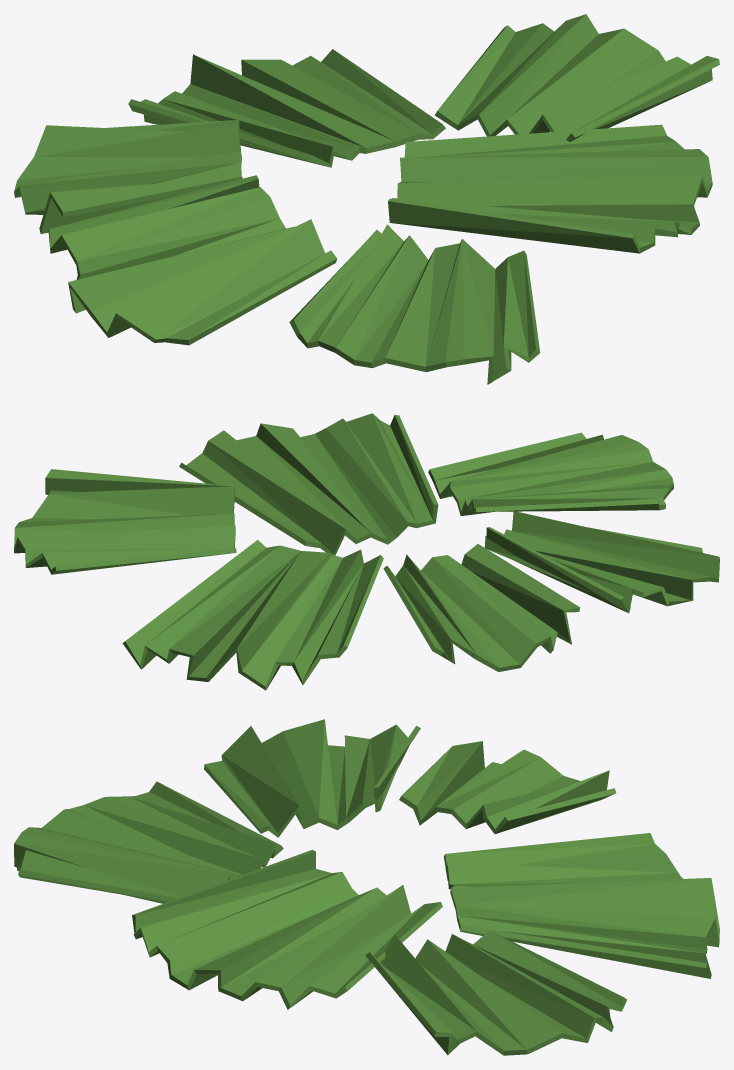
File: Lettuce.glb
The picture shows the model from 3 angles, top to bottom: view 1: azimuth 30°, elevation 25°; view 2: azimuth 150°, elevation 25°; view 3: azimuth 270°, elevation 25°; orthographic projection. The views are drawn at different scales.
Parts seen in each view (by area): view 1: Lettuce_Plane.000; view 2: Lettuce_Plane.000; view 3: Lettuce_Plane.000.
Part boxes in pixels (x1,y1,x2,y2): Lettuce_Plane.000: (14,14,719,384); Lettuce_Plane.000: (14,413,719,690); Lettuce_Plane.000: (14,719,719,1055).
Size of the model in its own units: 1.79 by 0.2306 by 1.68.
